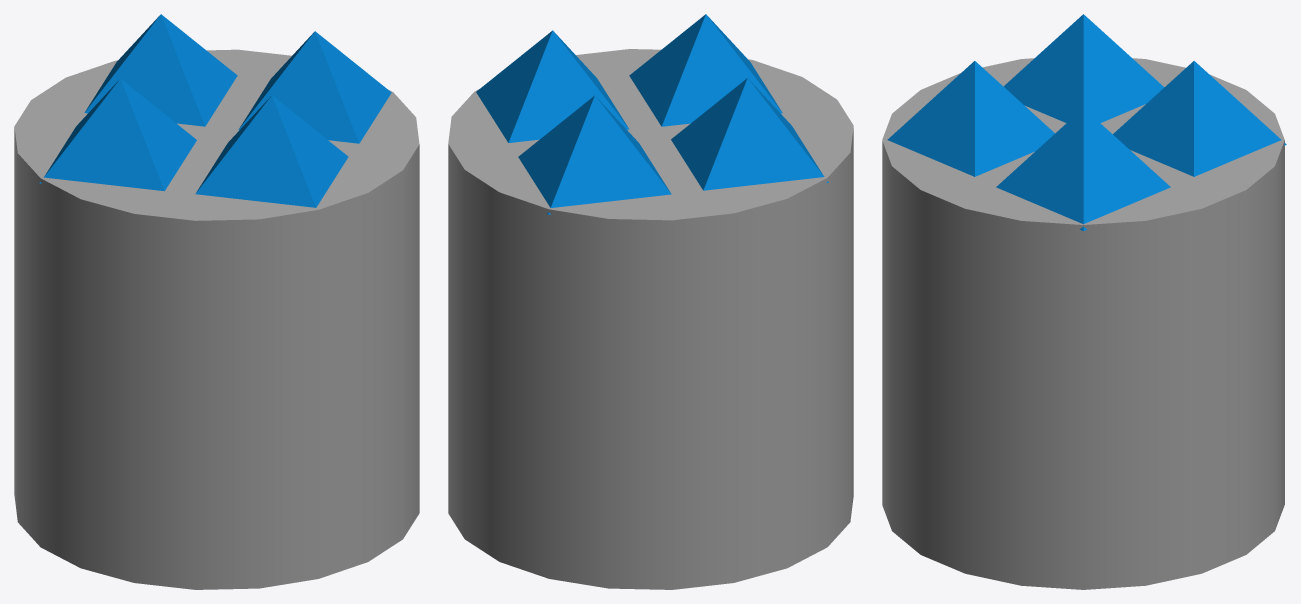
File: SpikeCylinder.fbx
3 renders of one model, left to right at view 1: azimuth 30°, elevation 25°; view 2: azimuth 150°, elevation 25°; view 3: azimuth 270°, elevation 25°, orthographic.
Visible parts, largest first — view 1: pCylinder1, pPyramid2, pPyramid3, pPyramid4, pPyramid1; view 2: pCylinder1, pPyramid4, pPyramid2, pPyramid1, pPyramid3; view 3: pCylinder1, pPyramid1, pPyramid4, pPyramid3, pPyramid2.
Part boxes in pixels (<box>): pCylinder1: <box>14,49,419,589</box>; pPyramid2: <box>39,78,196,191</box>; pPyramid3: <box>195,95,348,207</box>; pPyramid4: <box>84,14,237,126</box>; pPyramid1: <box>238,31,391,143</box>; pCylinder1: <box>448,49,853,589</box>; pPyramid4: <box>518,95,671,214</box>; pPyramid2: <box>671,78,828,190</box>; pPyramid1: <box>476,30,629,142</box>; pPyramid3: <box>629,14,782,126</box>; pCylinder1: <box>882,58,1284,589</box>; pPyramid1: <box>996,108,1170,230</box>; pPyramid4: <box>1113,61,1286,176</box>; pPyramid3: <box>887,61,1054,176</box>; pPyramid2: <box>1003,14,1164,122</box>.
Bounding box in the file's own units: 2.03 × 2.44 × 2.01.
